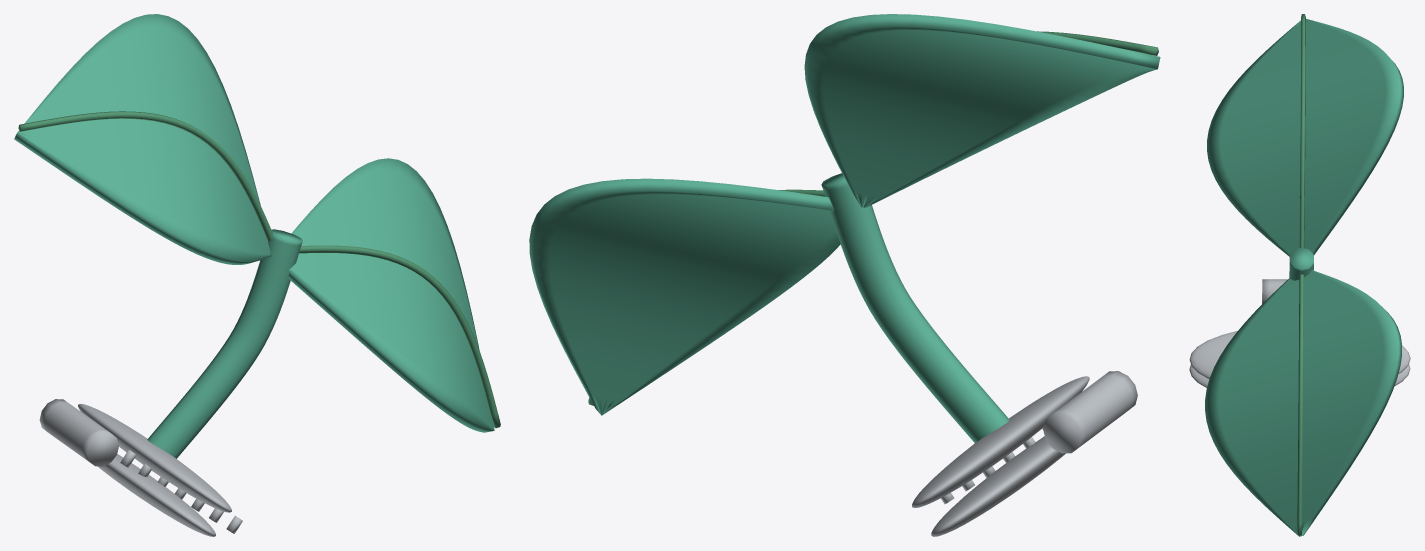
The model's file is Masculine-taper-headband254-sprout.glb.
The picture shows the model from 3 angles, left to right: view 1: azimuth 30°, elevation 25°; view 2: azimuth 150°, elevation 25°; view 3: azimuth 270°, elevation 25°; orthographic projection. The views are drawn at different scales.
Visible parts, largest first — view 1: 226 extra / Accessory / mint226, 226 extra / Sprout / clip silver235, 226 extra / Sprout / leaf vein235; view 2: 226 extra / Accessory / mint226, 226 extra / Sprout / clip silver235, 226 extra / Sprout / leaf vein235; view 3: 226 extra / Accessory / mint226, 226 extra / Sprout / leaf vein235, 226 extra / Sprout / clip silver235.
Part boxes in pixels (box(x1,y1,x2,y2)): 226 extra / Accessory / mint226: box(14, 14, 494, 458); 226 extra / Sprout / clip silver235: box(39, 399, 242, 536); 226 extra / Sprout / leaf vein235: box(18, 111, 500, 428); 226 extra / Accessory / mint226: box(529, 14, 1160, 442); 226 extra / Sprout / clip silver235: box(912, 371, 1137, 536); 226 extra / Sprout / leaf vein235: box(588, 31, 1158, 405); 226 extra / Accessory / mint226: box(1205, 19, 1403, 536); 226 extra / Sprout / leaf vein235: box(1297, 14, 1305, 535); 226 extra / Sprout / clip silver235: box(1189, 279, 1410, 387).
Size of the model in its own units: 0.2115 by 0.1962 by 0.1041.
